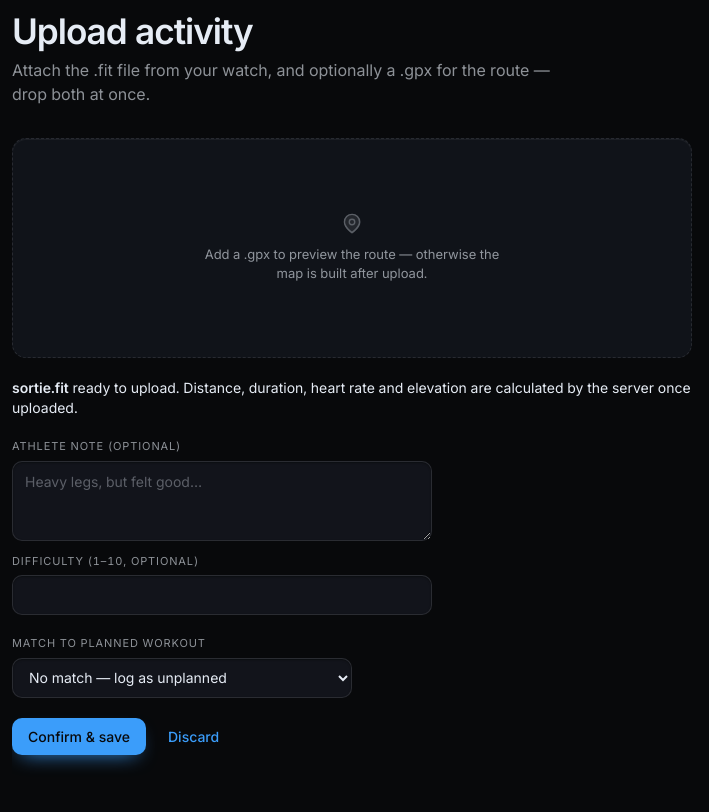
Test: UploadView — envoi › refuse la difficulté 5.5 sans appeler l’API
Earlier steps of the test are not shown.
Type "5.5" into the number field labelled "Difficulty (1–10, optional)".
click(222, 595); type("5.5")  # box [12,575,432,615]
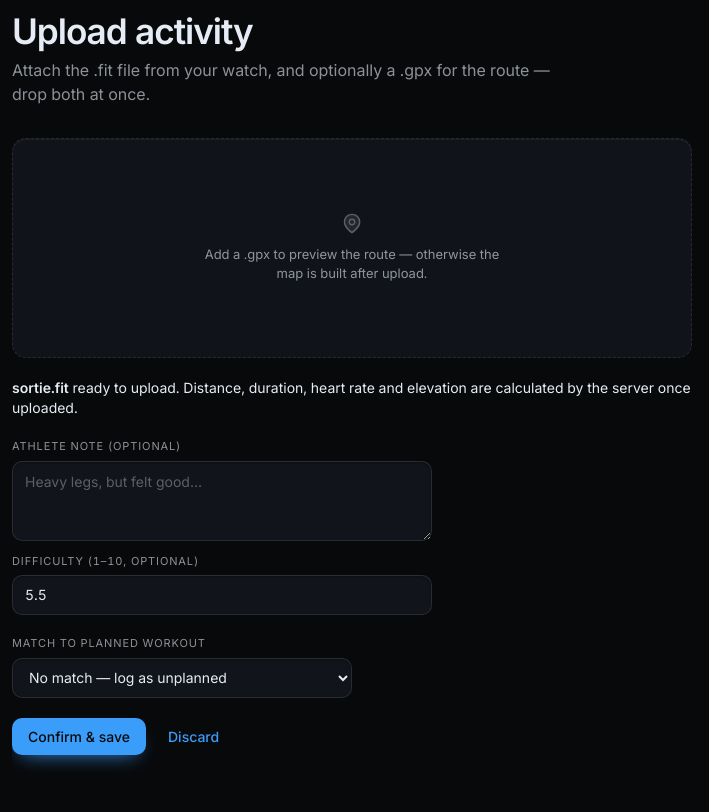
Click the button "Confirm & save".
click(79, 736)  # box [12,718,146,755]
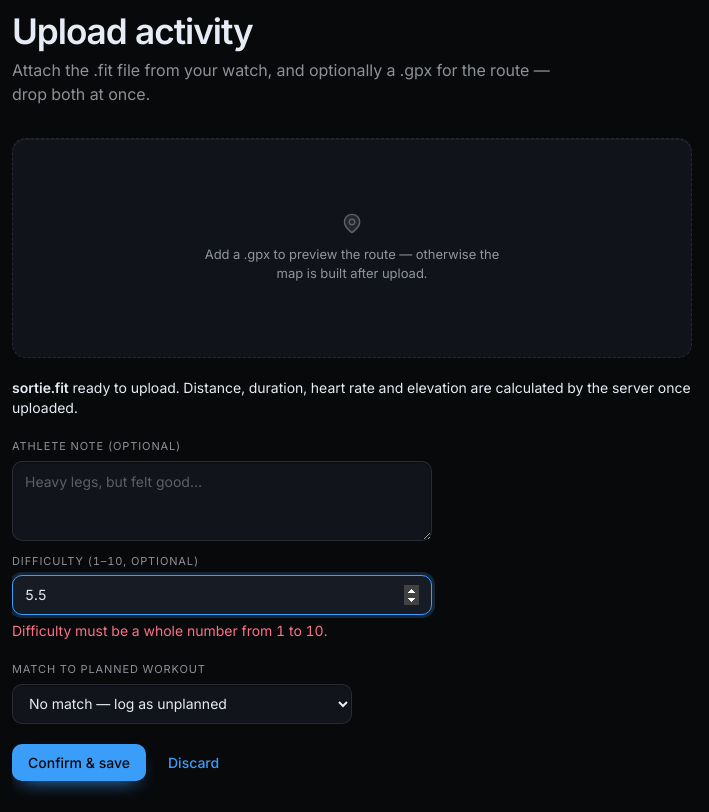
Now the text "Difficulty must be a whole number from 1 to 10." is shown, box [12,622,328,639]
